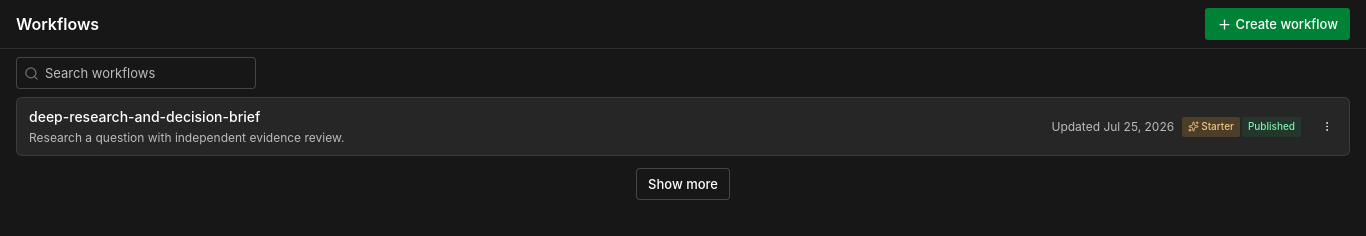
Scenario: Workflow library › keeps opaque pagination in the client and shows the next Workflow page on request
Check: the heading "deep-research-and-decision-brief" is shown, box [29, 108, 260, 125]
Click the button with aria-label "Show more Workflows". click: point(683, 184)
box: [636, 168, 730, 200]
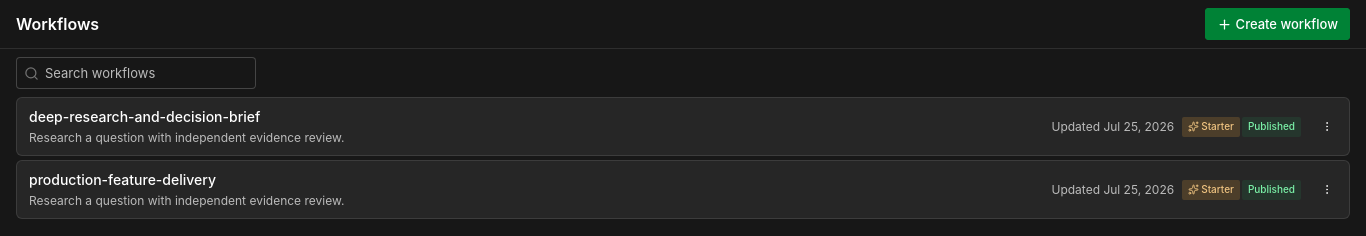
Check: the heading "production-feature-delivery" is shown, box [29, 171, 216, 188]
